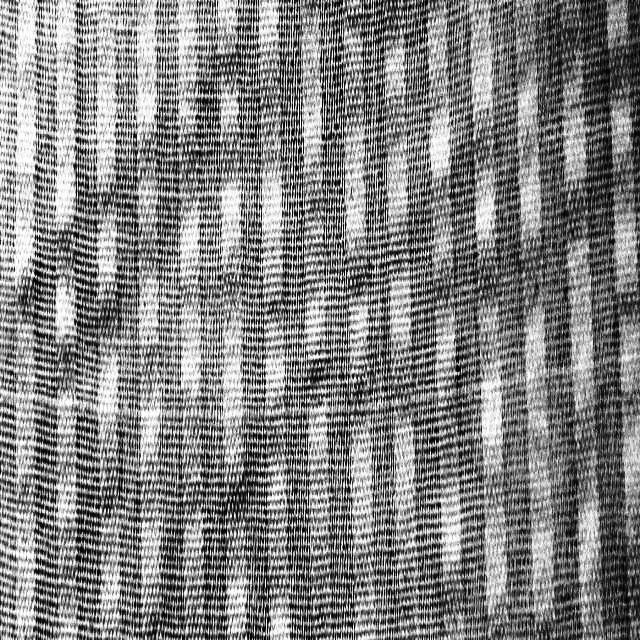Foreign_yarn: (2, 356, 640, 430)
